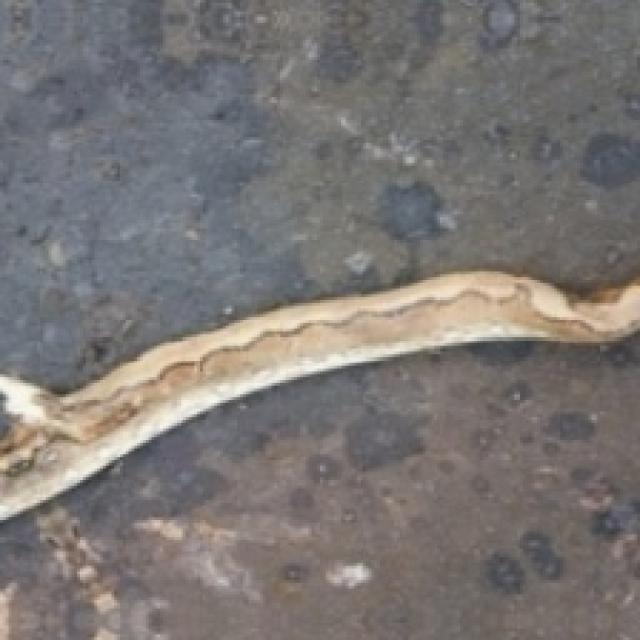reticulated python: (0, 271, 637, 517)
